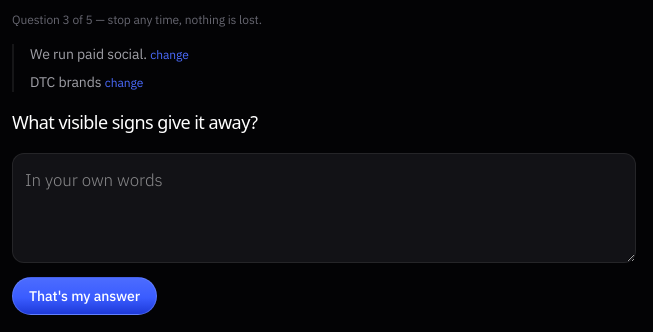
Test: InterviewView › shows the transcript and lets an earlier answer be amended in place
Check: the text "We run paid social." is shown, box [30,45,147,63]
Click the button with test id "amend-business_attributes" at (124, 83), box [105,75,143,91]
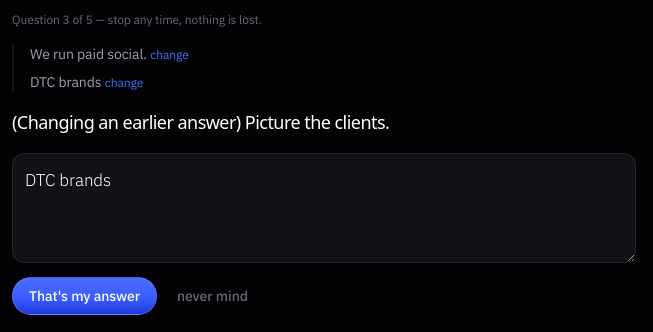
Check: the text box with test id "interview-answer" holds "DTC brands", box [12,153,636,263]
Check: the text with test id "interview-prompt" shows "Changing an earlier answer", box [12,110,389,134]
Note: The retreat exists: never mind returns to the open question.
Click the button "never mind" at (212, 296), box [165,280,260,312]
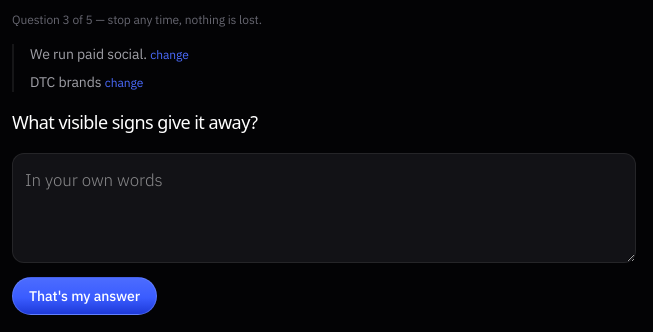
Check: the text with test id "interview-prompt" shows "visible signs", box [12,110,257,134]
